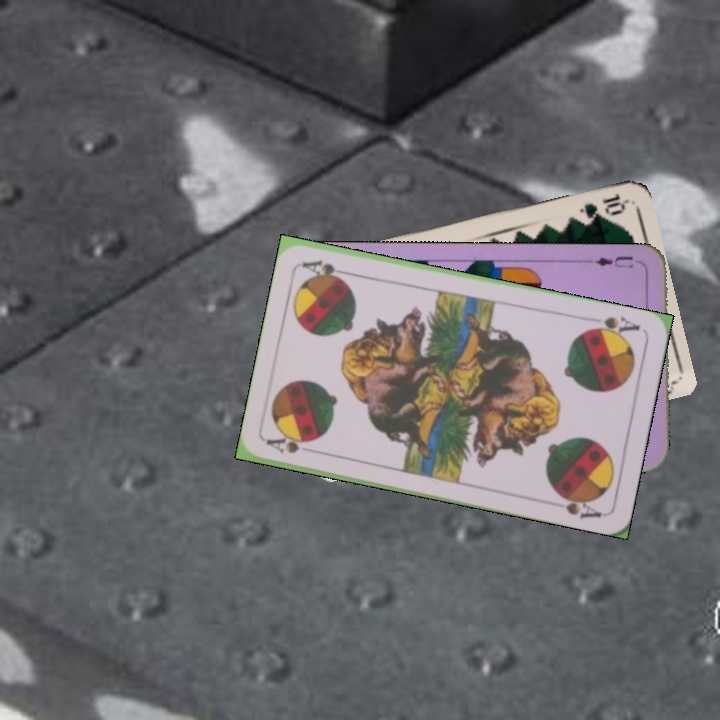EU: (591, 252, 644, 271)
G10: (575, 189, 629, 222)
SA: (583, 312, 643, 341), (263, 432, 322, 456)
